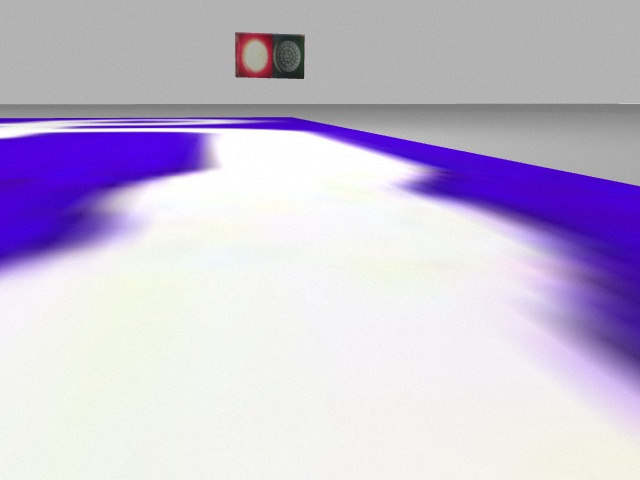red: (233, 34, 272, 76)
